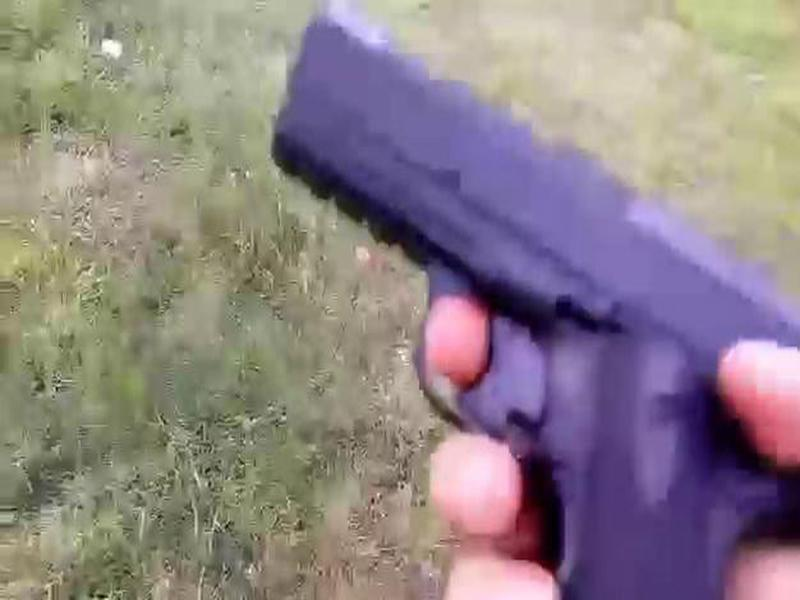Pistola: (256, 5, 796, 600)
